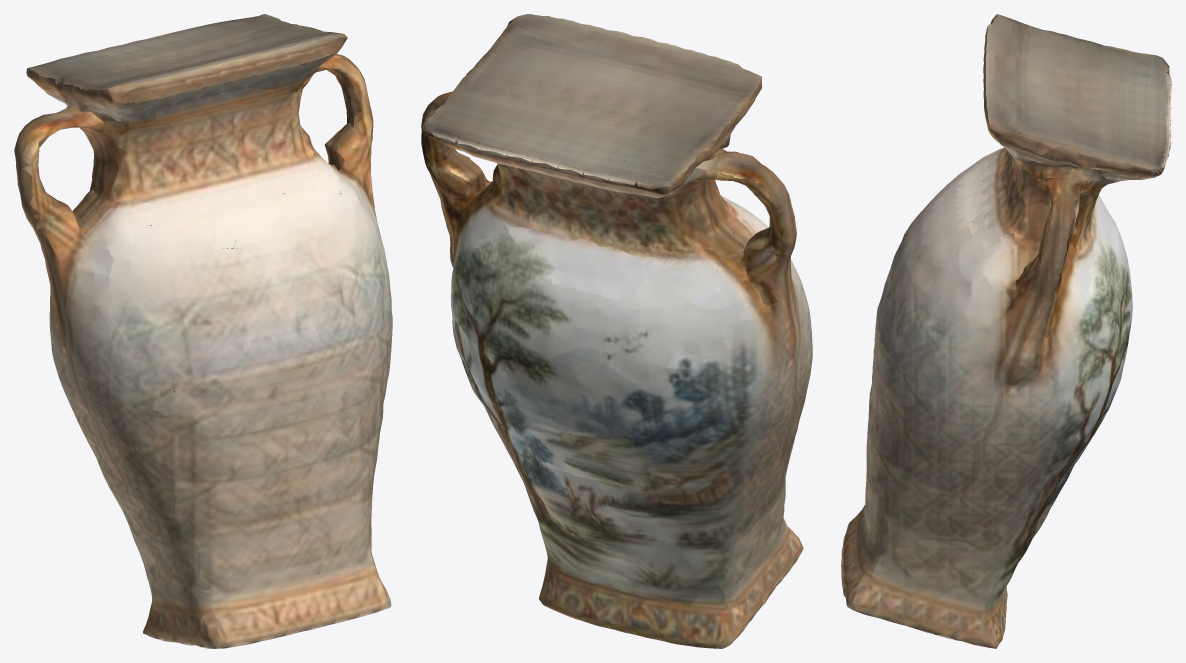
The model's file is 21_19_15_19_a-single-porcelain-vase-with-hand-painted-pastoral-scenes.glb.
The picture shows the model from 3 angles, left to right: view 1: azimuth 30°, elevation 25°; view 2: azimuth 150°, elevation 25°; view 3: azimuth 270°, elevation 25°; orthographic projection. The views are drawn at different scales.
Visible parts, largest first — view 1: world; view 2: world; view 3: world.
Part boxes in pixels (box(x1,y1,x2,y2)): world: box(14, 14, 392, 648); world: box(421, 14, 812, 648); world: box(841, 14, 1171, 648).
Bounding box in the file's own units: 0.6229 × 0.9578 × 0.5278.
Materials: 1 (1 with a texture image).
